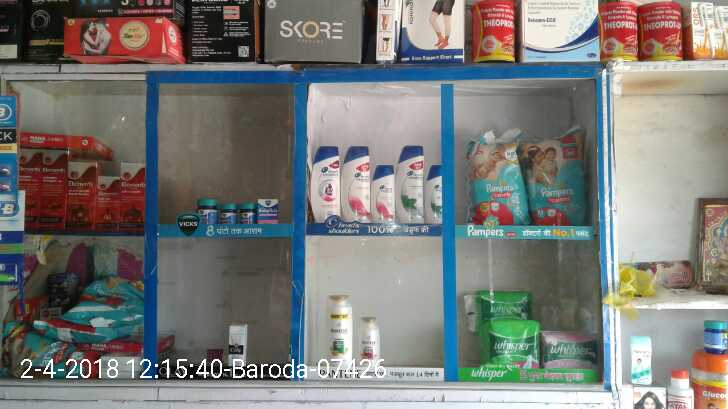vicks: (195, 198, 217, 223), (259, 199, 279, 225), (239, 200, 256, 224), (221, 205, 239, 225)
